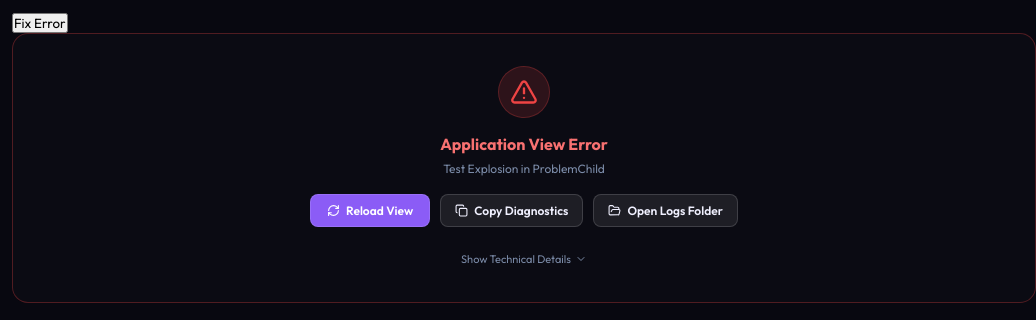
it: ErrorBoundary › recovers when Reload View is clicked and underlying issue is resolved
// Click Reload View button on ErrorBoundary
Click the button "Reload View": [370, 210] box [310,194,430,227]
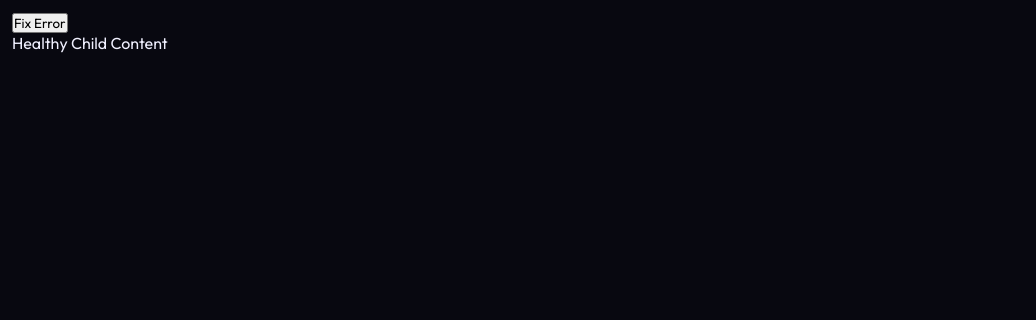
Expected: the text "Healthy Child Content" is shown, [12,33,168,53]
